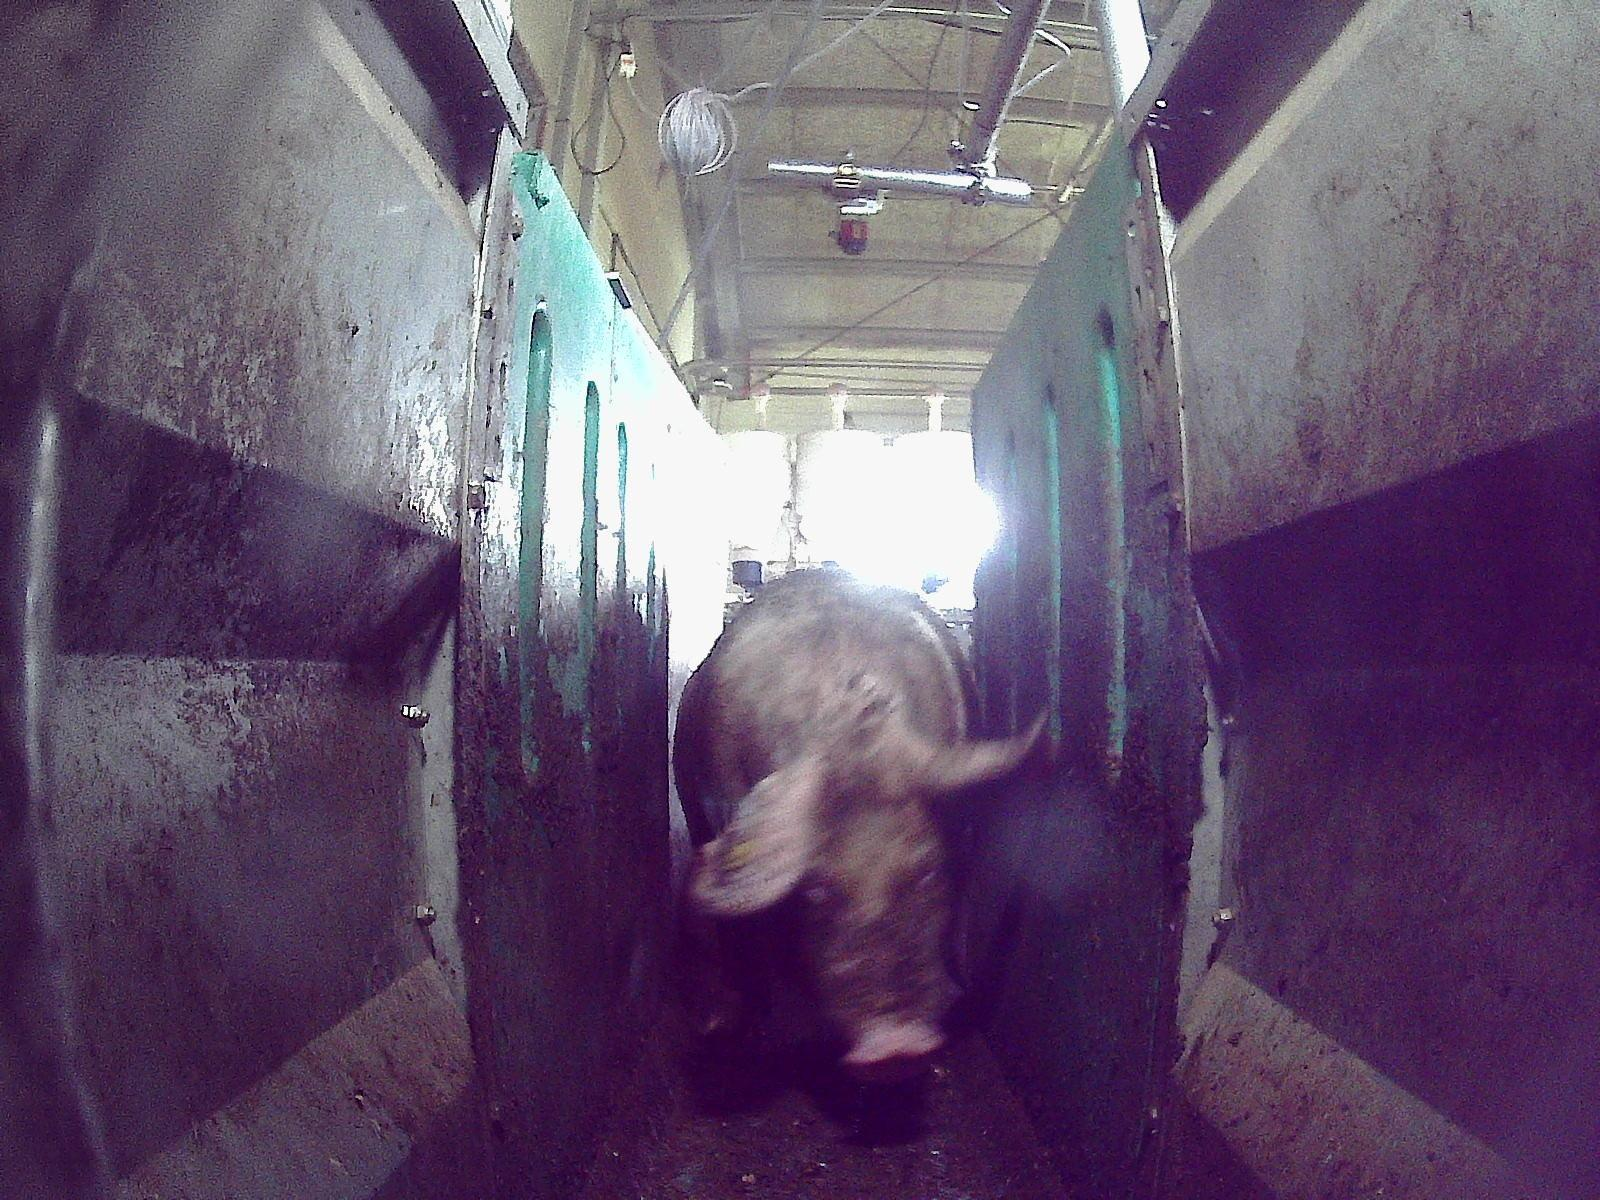Face: (752, 756, 962, 1080)
